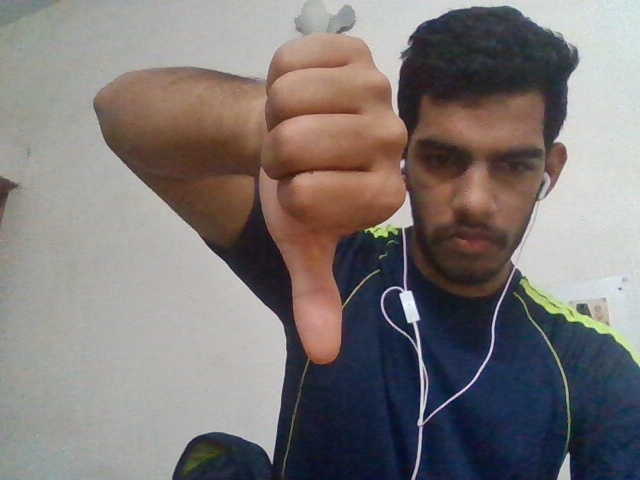no: (246, 27, 408, 368)
